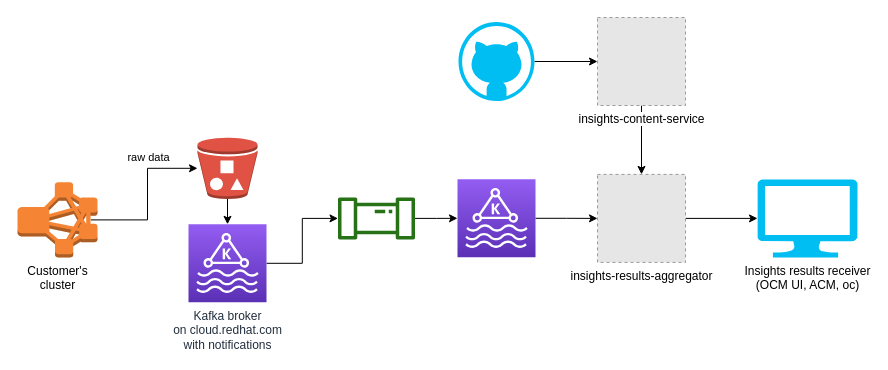
Some shapes in this 888 by 370 pixel diagram are drawn without their labels. Grey dashed boxes stand in for pictures. Here are the shapes that lost their labels. From the top down, the centre of each, then its label:
At [496,61]: "Repository with rule group definitions".
At [376,218]: "External data pipeline".
At [496,217]: "Kafka broker on cloud.redhat.com to store insights-rules-results".
